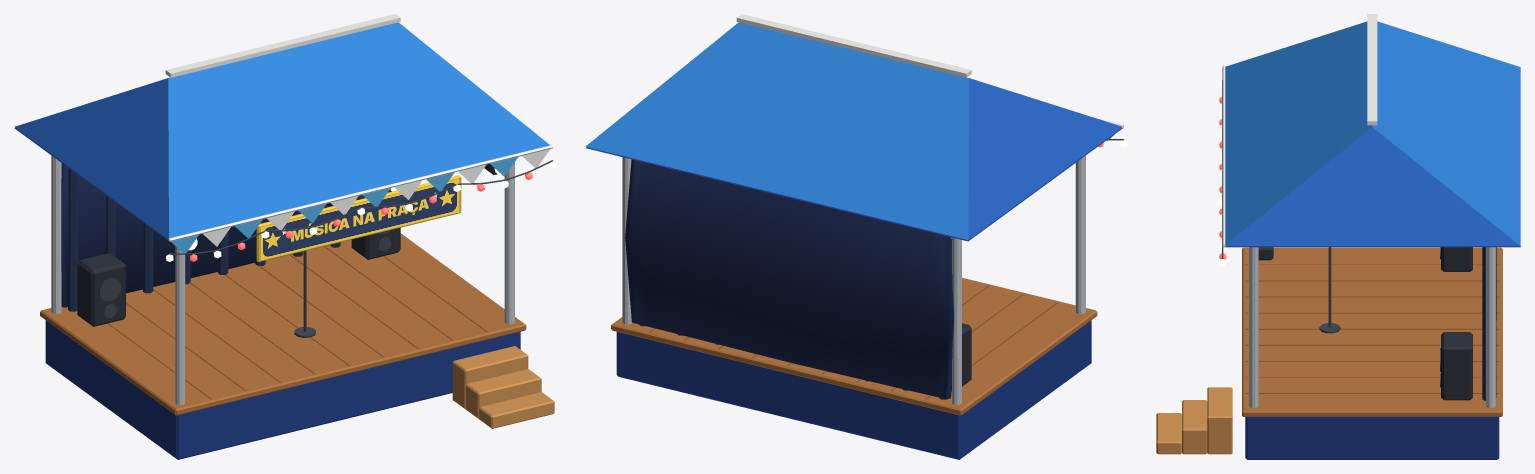
Rendered from palco_coberto_pequeno.glb.
The picture shows the model from 3 angles, left to right: view 1: azimuth 30°, elevation 25°; view 2: azimuth 150°, elevation 25°; view 3: azimuth 270°, elevation 25°; orthographic projection. The views are drawn at different scales.
Parts seen in each view (by area): view 1: palco_coberto_pequeno; view 2: palco_coberto_pequeno; view 3: palco_coberto_pequeno.
Boxes of the visible parts, left/top/right/bottom form: palco_coberto_pequeno: left=14, top=14, right=554, bottom=459; palco_coberto_pequeno: left=585, top=14, right=1124, bottom=459; palco_coberto_pequeno: left=1156, top=14, right=1520, bottom=459.
Bounding box in the file's own units: 6.11 × 4.89 × 5.16.
Materials: 4 (2 with a texture image).
